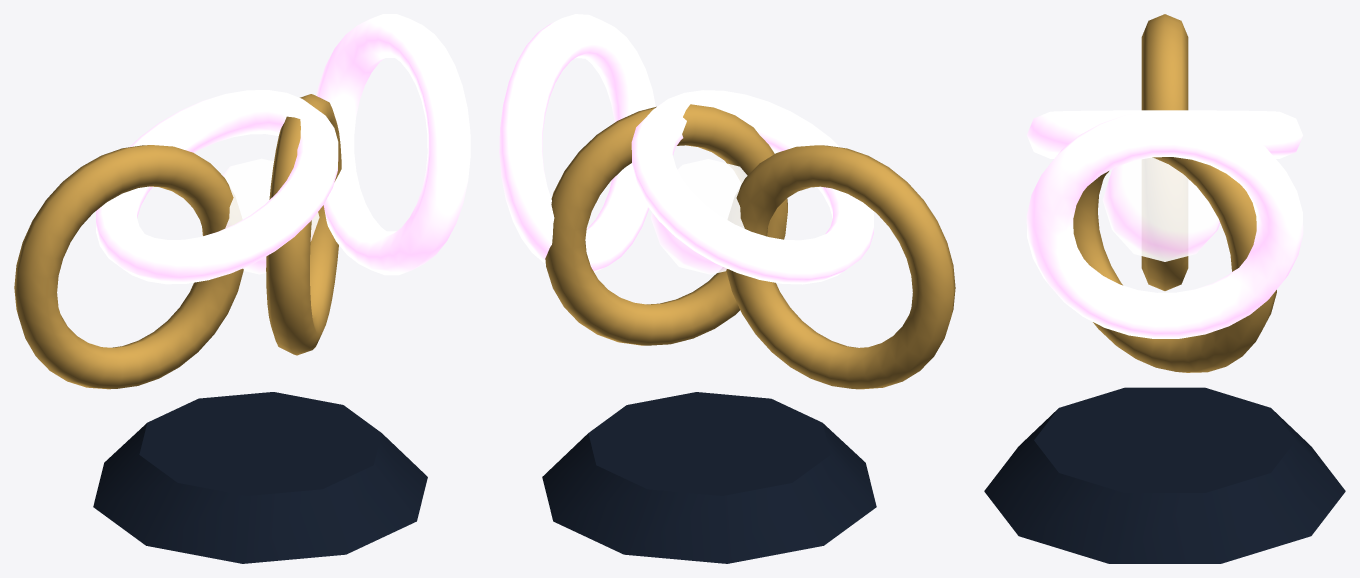
The model's file is expchain.glb.
The picture shows the model from 3 angles, left to right: view 1: azimuth 30°, elevation 25°; view 2: azimuth 150°, elevation 25°; view 3: azimuth 270°, elevation 25°; orthographic projection. The views are drawn at different scales.
Parts seen in each view (by area): view 1: body; view 2: body; view 3: body.
Part boxes in pixels (x1,y1,x2,y2): body: (14,14,470,563); body: (499,14,955,563); body: (984,14,1345,563).
Size of the model in its own units: 1.62 by 1.61 by 1.16.
